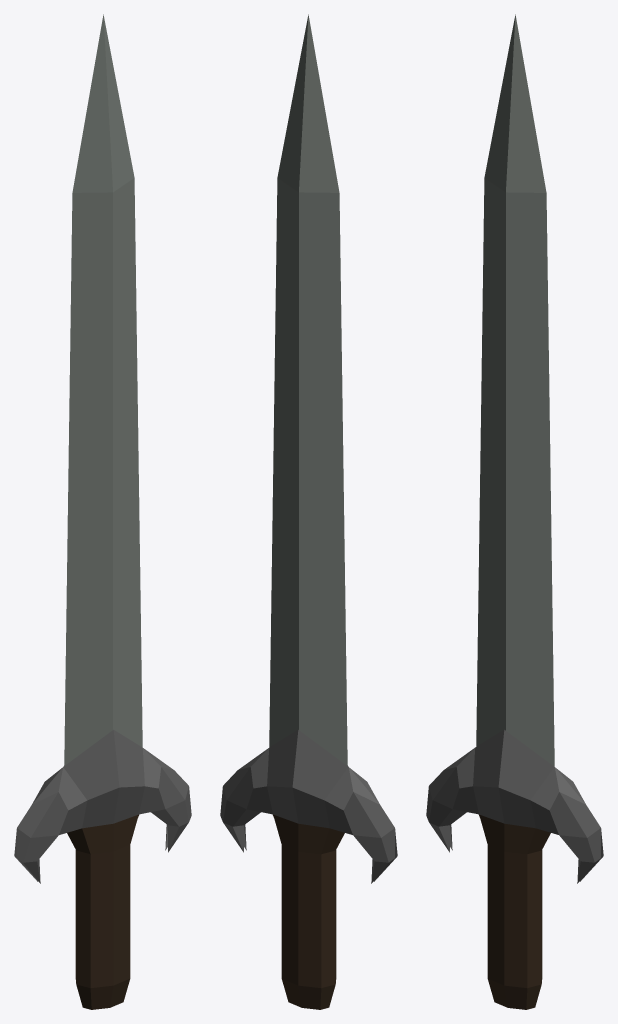
File: Sword.FBX
3 renders of one model, left to right at view 1: azimuth 30°, elevation 25°; view 2: azimuth 150°, elevation 25°; view 3: azimuth 330°, elevation 25°, orthographic.
Parts seen in each view (by area): view 1: FullSword; view 2: FullSword; view 3: FullSword.
Boxes of the visible parts, x1,y1,x2,y2 form: FullSword: (14, 14, 191, 1009); FullSword: (220, 14, 397, 1009); FullSword: (426, 14, 603, 1009).
Size of the model in its own units: 163 by 879 by 53.
